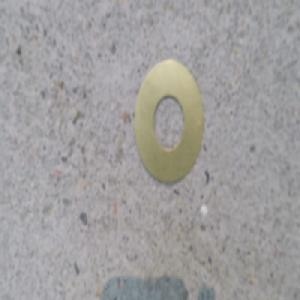Washer: (130, 55, 202, 183)
